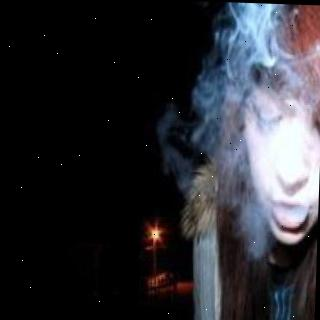smoke: (200, 5, 288, 252)
